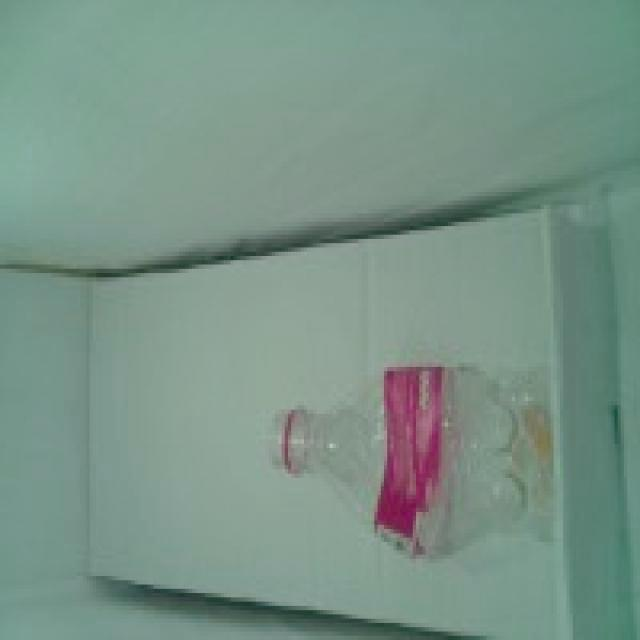bottle: (271, 363, 555, 561)
